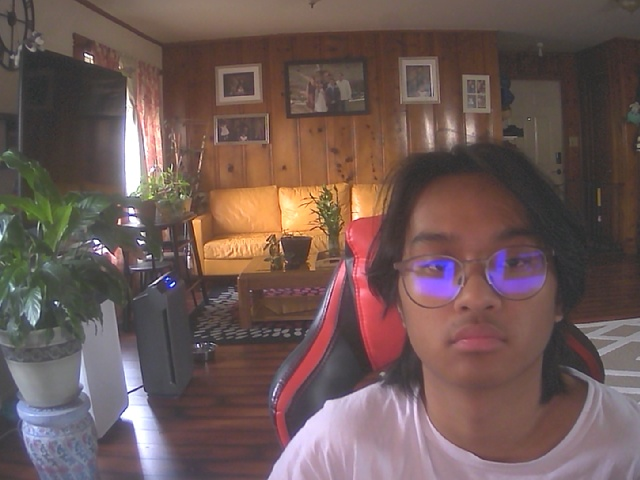neutral: (386, 143, 569, 391)
